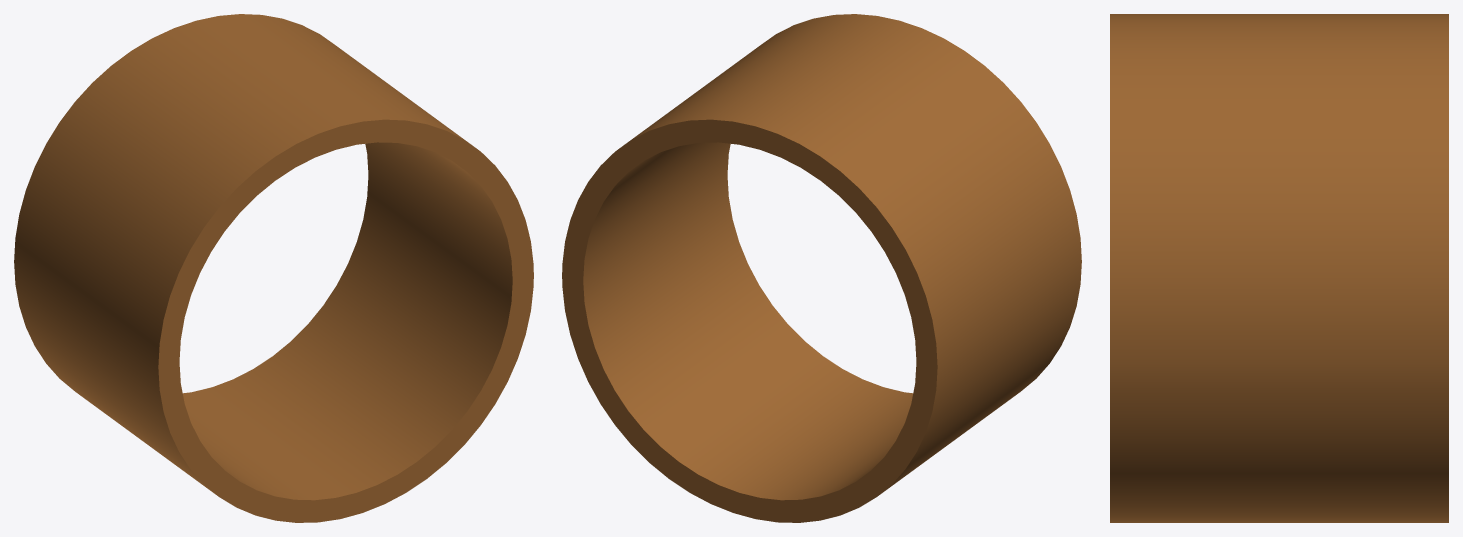
Rendered from UA_26_Front_ARB_Assembly__UA_26_6391K723_Oil_Embedded_841_Bronze_Sleeve_Bearing_1.dae.
3 views of the same model, side by side, from view 1: azimuth 30°, elevation 25°; view 2: azimuth 150°, elevation 25°; view 3: azimuth 270°, elevation 25° (orthographic). The views are drawn at different scales.
Visible parts, largest first — view 1: node0; view 2: node0; view 3: node0.
Part boxes in pixels (left/top/right/bottom): node0: left=14, top=14, right=533, bottom=522; node0: left=562, top=14, right=1081, bottom=522; node0: left=1110, top=14, right=1448, bottom=522.
Size of the model in its own units: 0.0286 by 0.0286 by 0.0191.
